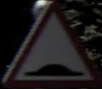Speed Breaker ahead: (12, 9, 87, 82)
